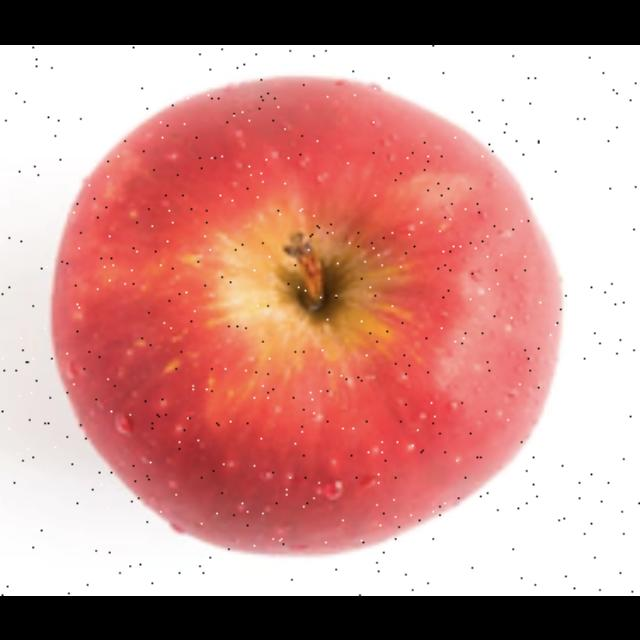Apel Segar: (49, 70, 563, 558)
